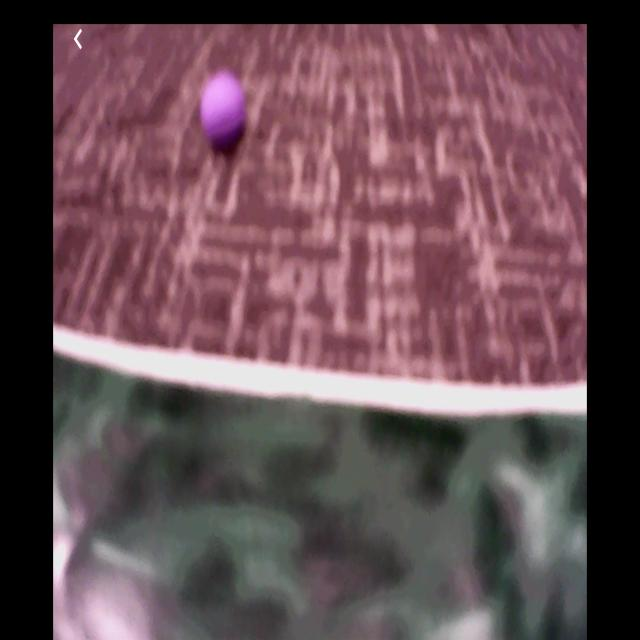ball: (202, 75, 248, 150)
